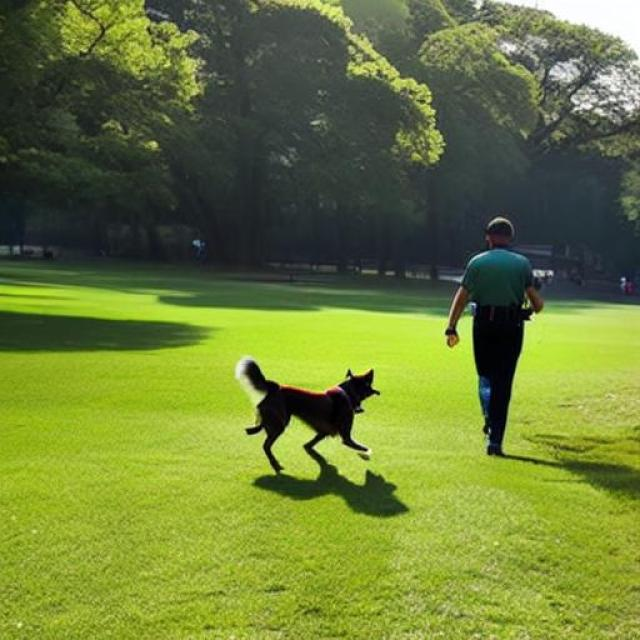Unleashed_Dog: (236, 322, 525, 468)
